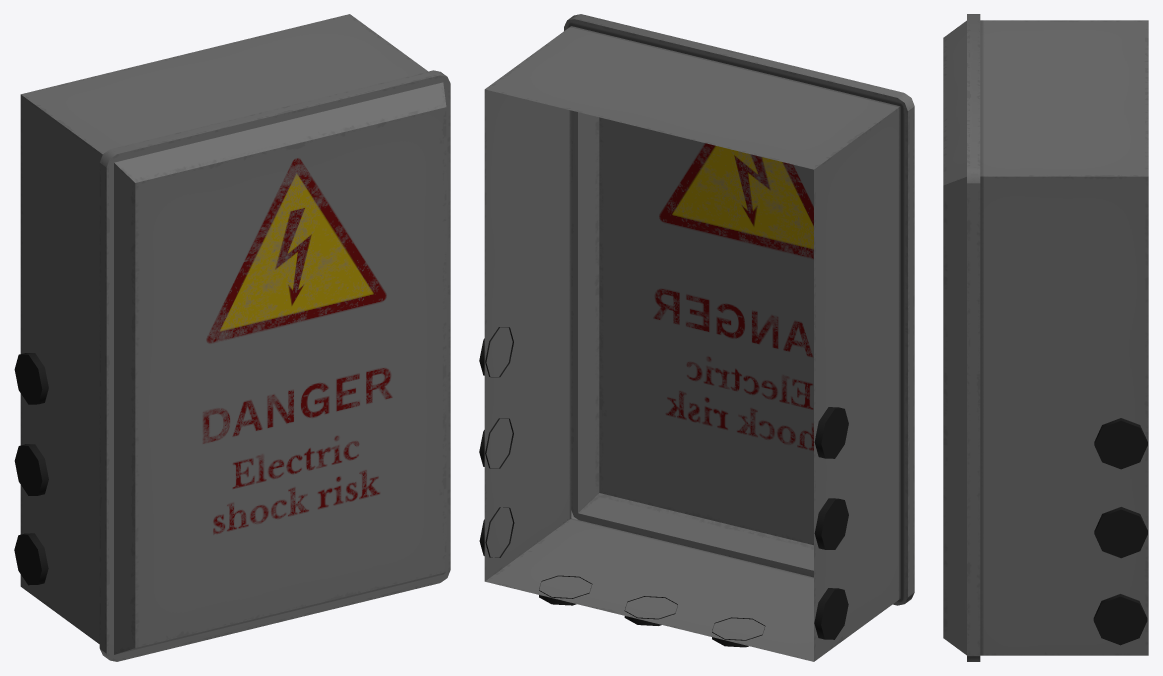
The model's file is ElectricBox.fbx.
The picture shows the model from 3 angles, left to right: view 1: azimuth 30°, elevation 25°; view 2: azimuth 150°, elevation 25°; view 3: azimuth 270°, elevation 25°; orthographic projection. The views are drawn at different scales.
Parts seen in each view (by area): view 1: ElectricBox; view 2: ElectricBox; view 3: ElectricBox.
Boxes of the visible parts, left/top/right/bottom form: ElectricBox: left=14, top=14, right=450, bottom=661; ElectricBox: left=479, top=14, right=914, bottom=661; ElectricBox: left=943, top=14, right=1148, bottom=661.
Size of the model in its own units: 26.33 by 37.13 by 14.
